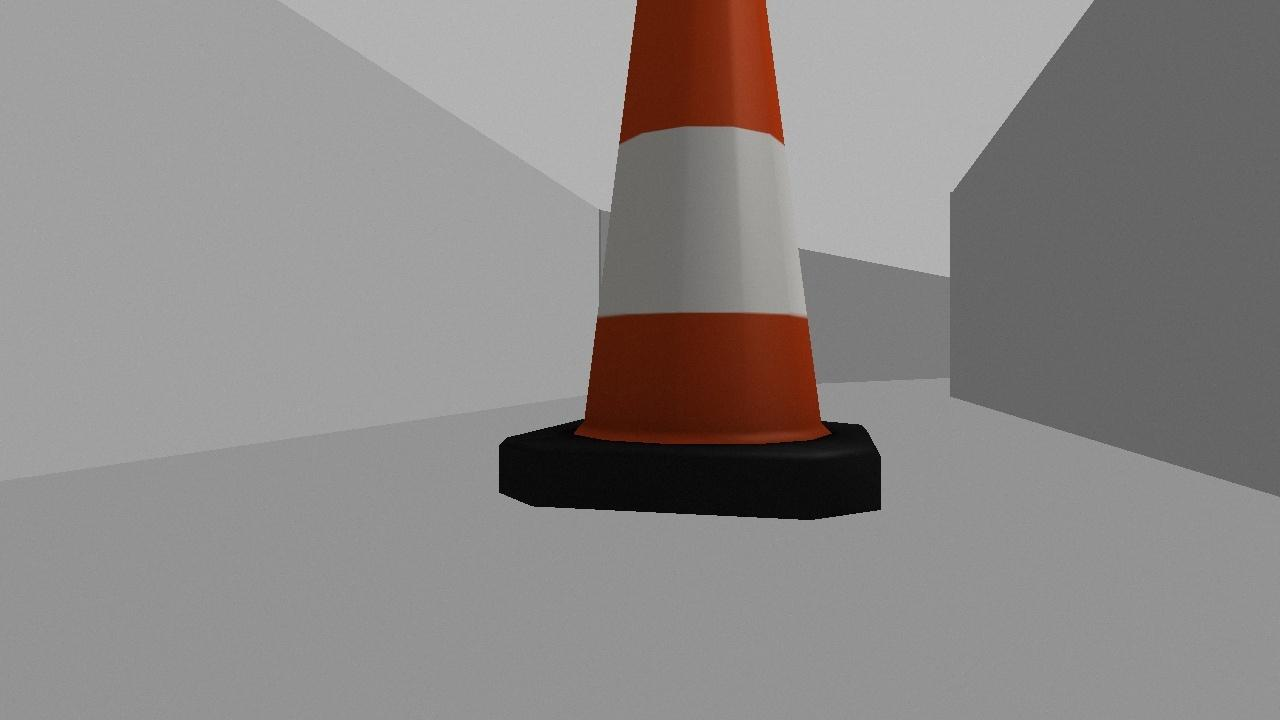cone_barrel: (497, 0, 883, 520)
